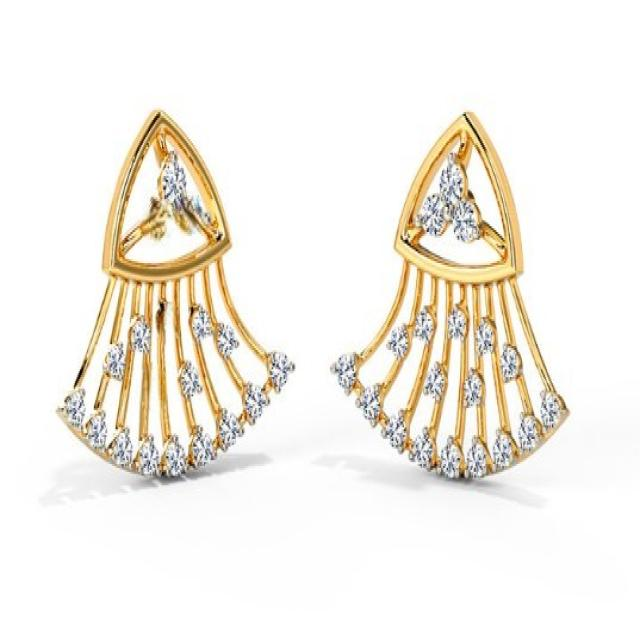missing gem: (174, 190, 202, 233), (145, 195, 169, 237), (156, 300, 177, 341)
